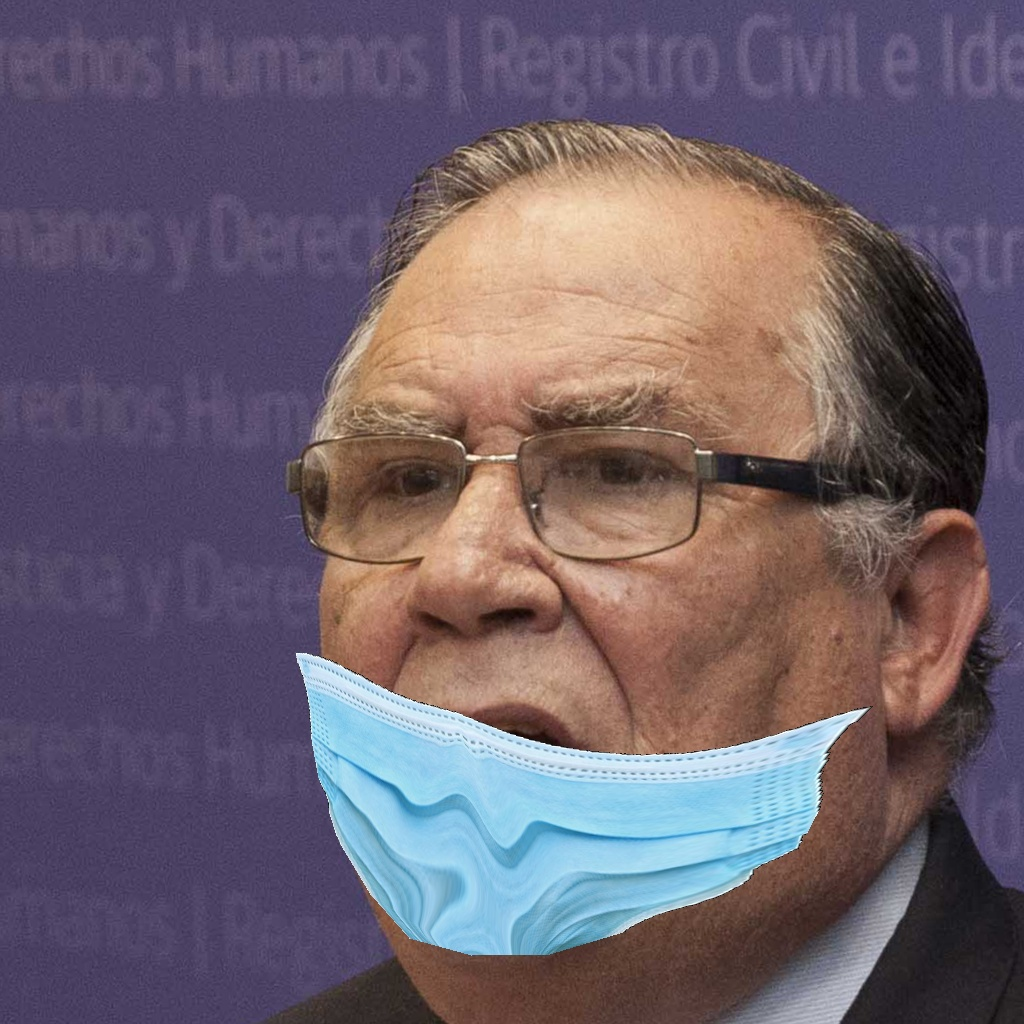mascarilla_mal_puesta: (262, 388, 917, 985)
